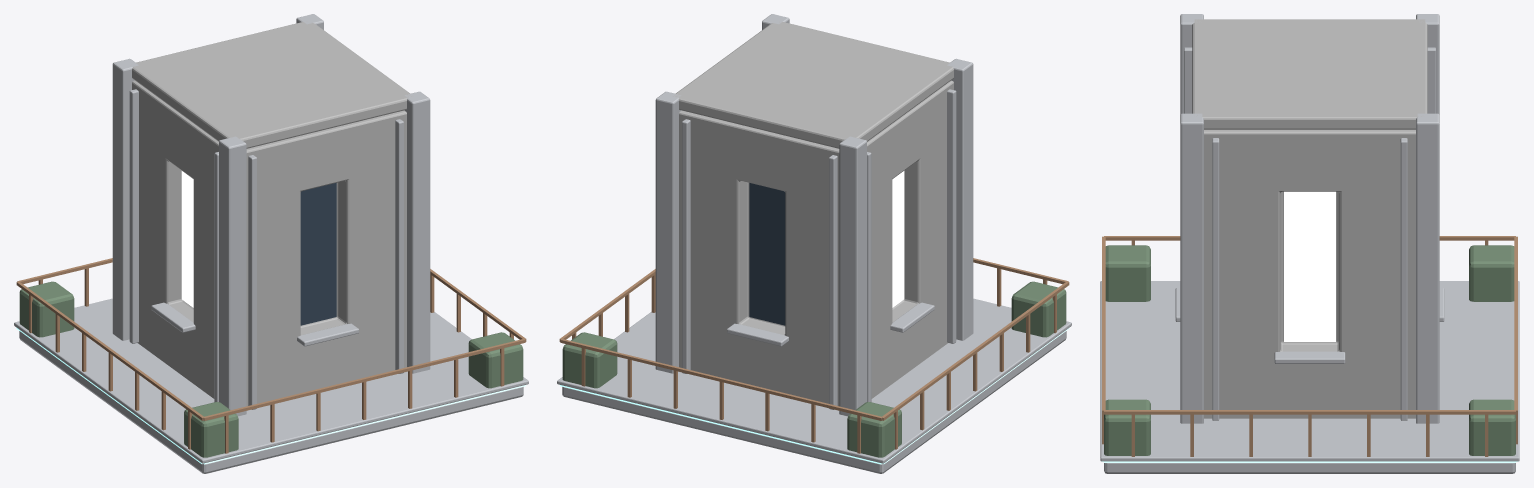
Rendered from transfer_3x3_2x2_concrete.glb.
The picture shows the model from 3 angles, left to right: view 1: azimuth 30°, elevation 25°; view 2: azimuth 150°, elevation 25°; view 3: azimuth 270°, elevation 25°; orthographic projection. The views are drawn at different scales.
Parts seen in each view (by area): view 1: ext_wall, int_ceiling, int_slab_edge, int_columns, ext_frames, ext_deck_rail, ext_deck_plants, int_slab, ext_panes_dark, ext_panes_lit, ext_deck_glow; view 2: ext_wall, int_ceiling, int_slab_edge, int_columns, ext_frames, ext_deck_rail, ext_deck_plants, int_slab, ext_panes_dark, ext_panes_lit, ext_deck_glow; view 3: ext_wall, int_slab_edge, int_ceiling, int_columns, ext_deck_plants, ext_panes_lit, ext_frames, ext_deck_rail, int_slab, ext_deck_glow.
Part boxes in pixels (<box>): ext_wall: <box>132,80,406,406</box>; int_ceiling: <box>132,22,411,148</box>; int_slab_edge: <box>14,298,528,463</box>; int_columns: <box>112,14,430,416</box>; ext_frames: <box>129,89,403,409</box>; ext_deck_rail: <box>16,258,526,453</box>; ext_deck_plants: <box>19,281,523,457</box>; int_slab: <box>19,331,523,473</box>; ext_panes_dark: <box>300,183,336,325</box>; ext_panes_lit: <box>181,171,193,307</box>; ext_deck_glow: <box>16,327,526,464</box>; ext_wall: <box>679,80,953,406</box>; int_ceiling: <box>673,22,953,148</box>; int_slab_edge: <box>557,298,1071,463</box>; int_columns: <box>655,14,973,416</box>; ext_frames: <box>682,89,956,409</box>; ext_deck_rail: <box>559,258,1069,453</box>; ext_deck_plants: <box>562,281,1066,457</box>; int_slab: <box>562,331,1066,473</box>; ext_panes_dark: <box>749,183,785,325</box>; ext_panes_lit: <box>892,171,904,307</box>; ext_deck_glow: <box>559,327,1069,464</box>; ext_wall: <box>1204,129,1415,418</box>; int_slab_edge: <box>1100,281,1519,461</box>; int_ceiling: <box>1192,19,1427,129</box>; int_columns: <box>1180,14,1439,423</box>; ext_deck_plants: <box>1104,245,1515,455</box>; ext_panes_lit: <box>1284,191,1335,341</box>; ext_frames: <box>1175,47,1444,420</box>; ext_deck_rail: <box>1102,236,1517,456</box>; int_slab: <box>1104,463,1515,473</box>; ext_deck_glow: <box>1101,461,1518,462</box>.
Size of the model in its own units: 3.56 by 3 by 3.56.
